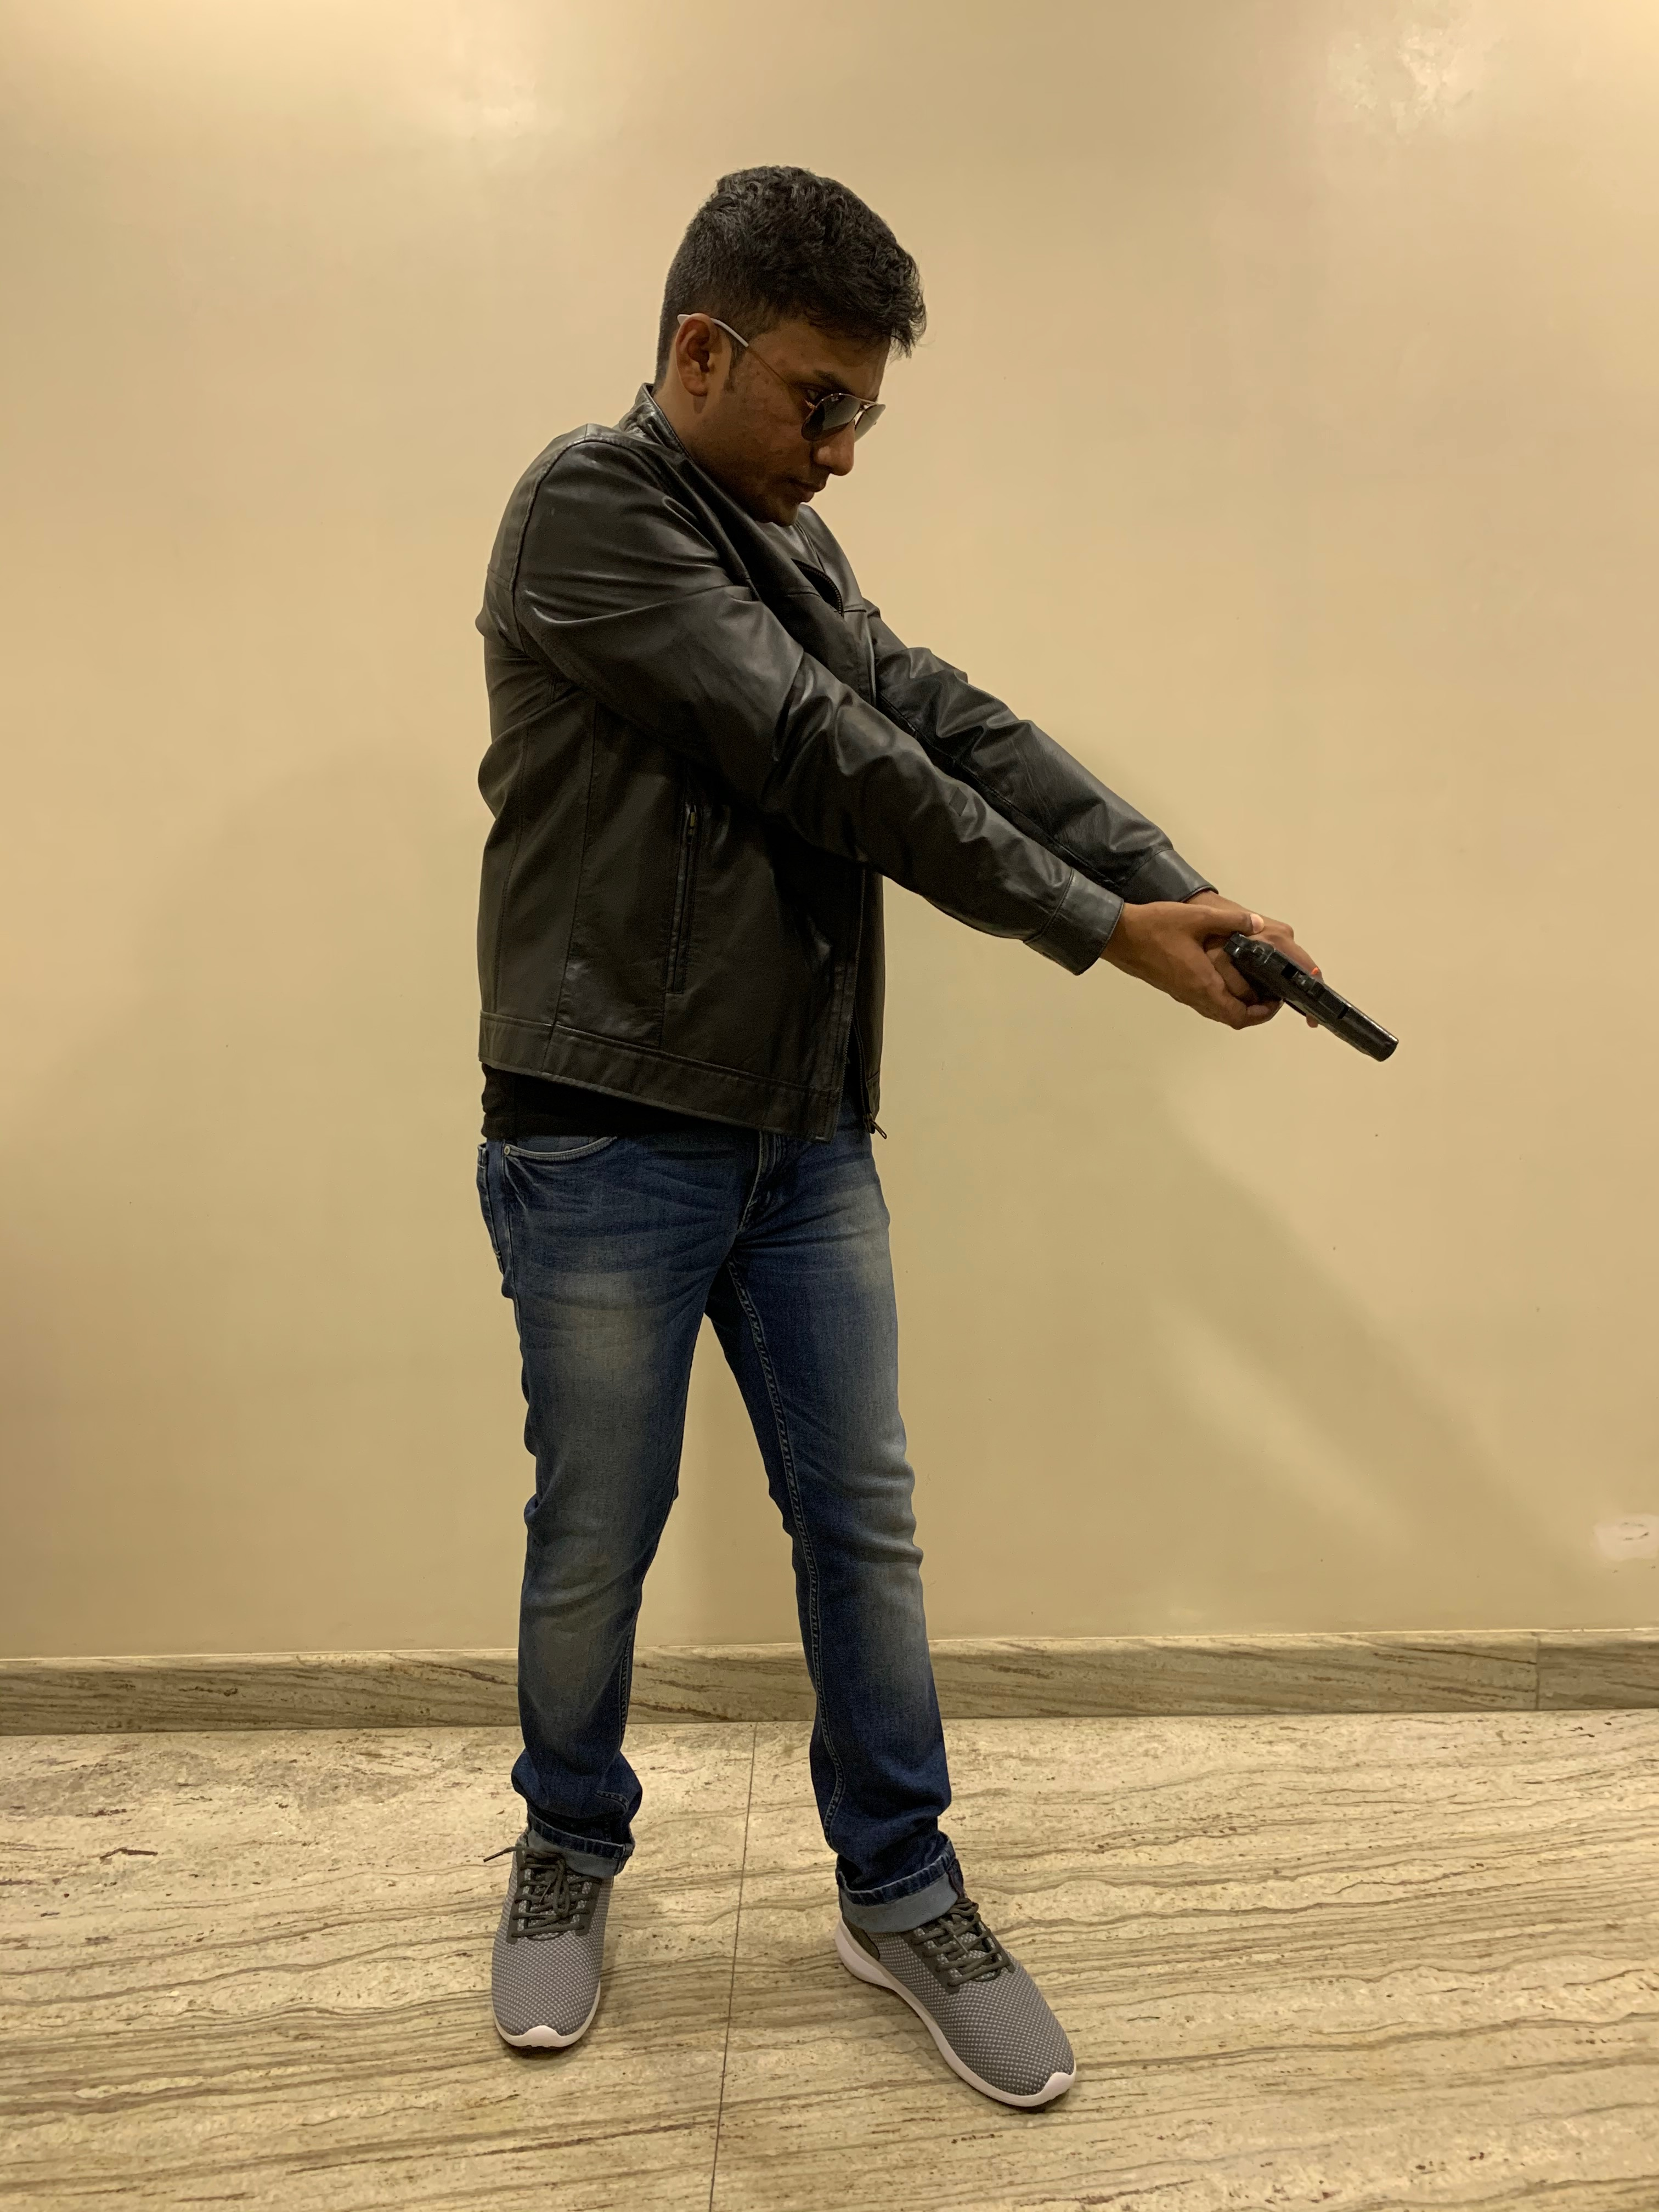gun: (1220, 932, 1398, 1071)
